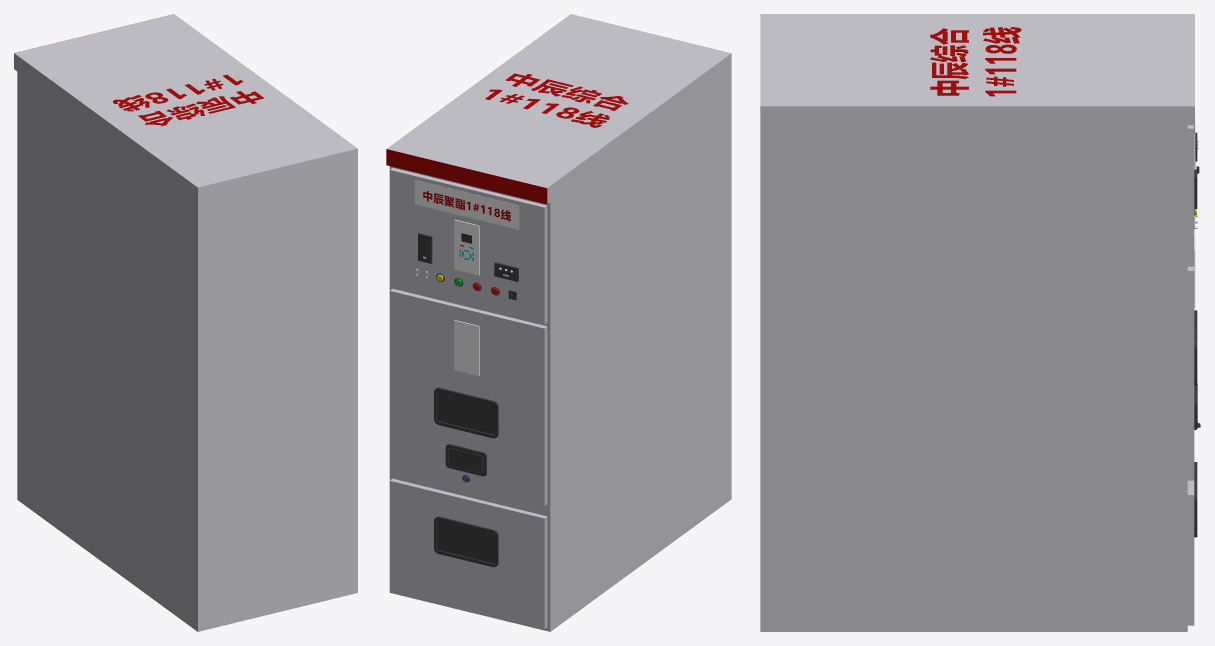
File: 1-21-processed.gltf
The picture shows the model from 3 angles, left to right: view 1: azimuth 30°, elevation 25°; view 2: azimuth 150°, elevation 25°; view 3: azimuth 270°, elevation 25°; orthographic projection. The views are drawn at different scales.
Visible parts, largest first — view 1: Rectangle8594, Text297; view 2: Rectangle8594, Rectangle8597, Rectangle8596, Obj3d66_1138023_124_983, Obj3d66_1138023_124_982, Rectangle8595, Text297, Obj3d66_1138023_187_650, Obj3d66_1138023_187_651, Obj3d66_1138023_127_185, Text298; view 3: Rectangle8594, Rectangle8597, Text297.
Part boxes in pixels (x1,y1,x2,y2): Rectangle8594: (14, 14, 357, 631); Text297: (113, 74, 264, 126); Rectangle8594: (387, 14, 731, 631); Rectangle8597: (389, 167, 547, 629); Rectangle8596: (386, 149, 547, 204); Obj3d66_1138023_124_983: (434, 516, 498, 567); Obj3d66_1138023_124_982: (434, 387, 498, 438); Rectangle8595: (414, 180, 519, 229); Text297: (485, 73, 628, 127); Obj3d66_1138023_187_650: (454, 320, 479, 375); Obj3d66_1138023_187_651: (454, 219, 479, 275); Obj3d66_1138023_127_185: (445, 444, 486, 476); Text298: (423, 191, 510, 221); Rectangle8594: (760, 14, 1194, 631); Rectangle8597: (1187, 125, 1194, 625); Text297: (930, 27, 1021, 96).
Bounding box in the file's own units: 830 × 2201 × 1671.
